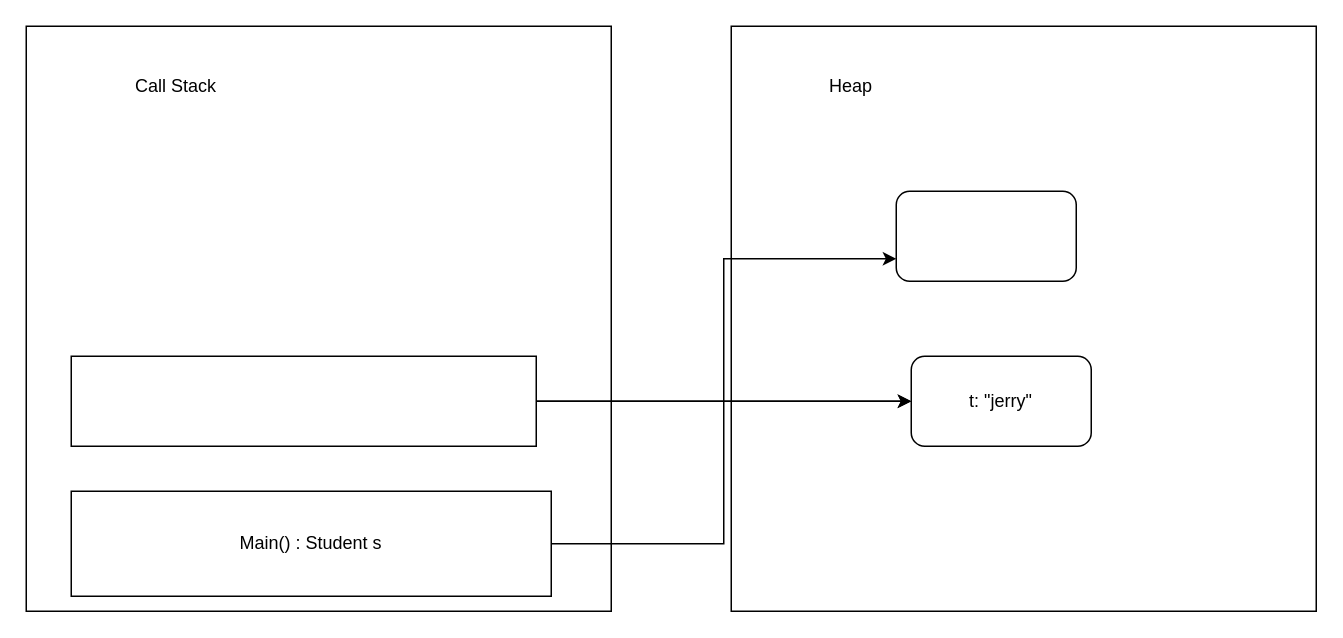
The diagram is 1343 pixels wide and 638 high, and some of its shapes have lost their labels. The shapes that lost their labels are listed below. From the top down, each one's box as (x1, y1, x2, y2) in pixels, then its label:
(895, 190, 1076, 281): s: "Tom"
(70, 355, 536, 446): change student: s, t t s-------------> t: "Jerry"
